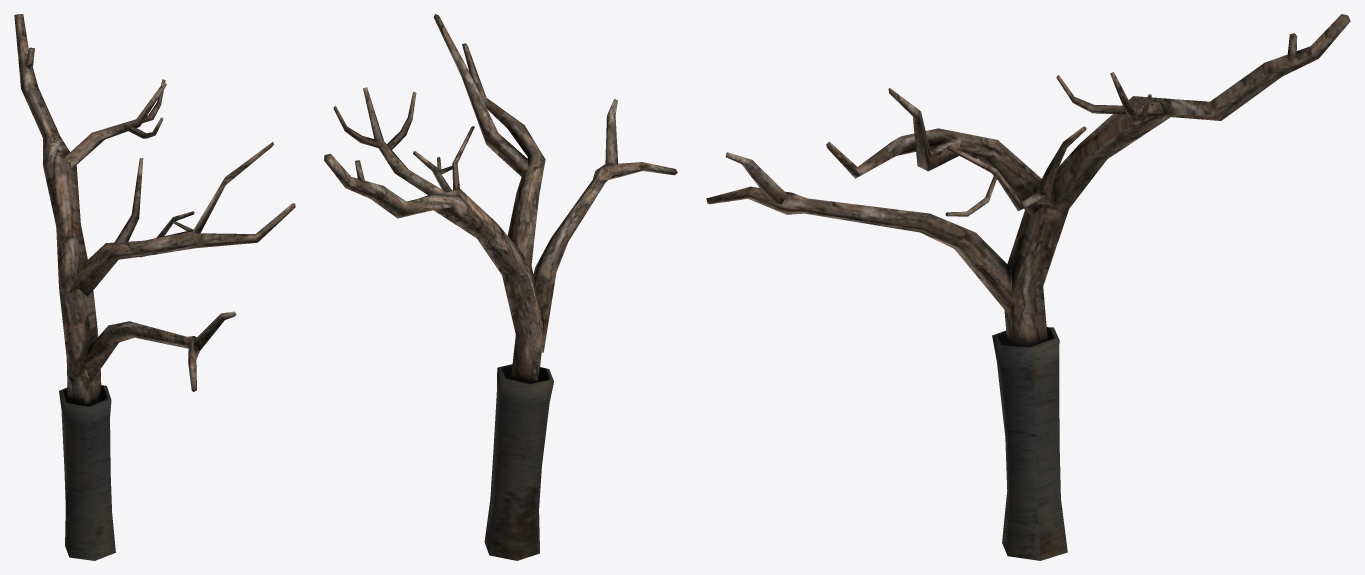
The model's file is DecorativeTreeBase.FBX.
3 renders of one model, left to right at view 1: azimuth 30°, elevation 25°; view 2: azimuth 150°, elevation 25°; view 3: azimuth 270°, elevation 25°, orthographic. The views are drawn at different scales.
Visible parts, largest first — view 1: DecorativeTreeBase; view 2: DecorativeTreeBase; view 3: DecorativeTreeBase.
Part boxes in pixels (x1,y1,x2,y2): DecorativeTreeBase: [14, 14, 295, 560]; DecorativeTreeBase: [324, 14, 677, 560]; DecorativeTreeBase: [706, 14, 1350, 560].
Bounding box in the file's own units: 65.95 × 172 × 178.
